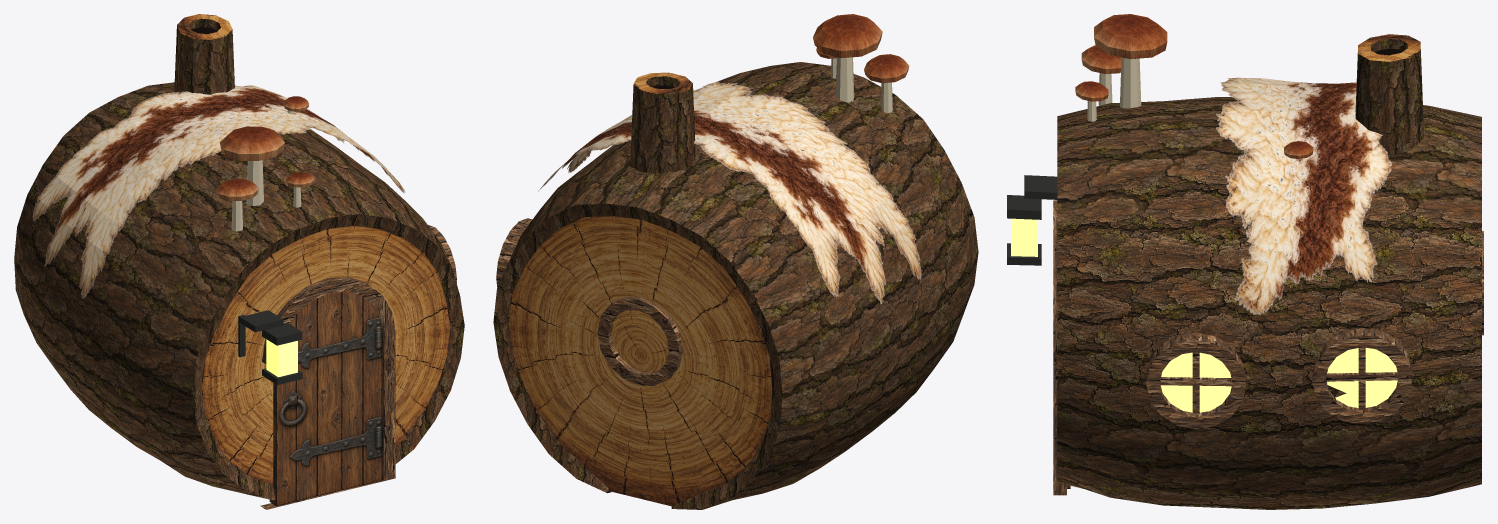
File: house-forest-01.glb
3 renders of one model, left to right at view 1: azimuth 30°, elevation 25°; view 2: azimuth 150°, elevation 25°; view 3: azimuth 270°, elevation 25°, orthographic. The views are drawn at different scales.
Parts seen in each view (by area): view 1: log, end_f, hide, door, rim_f, door_frame, chimney, mush0_cap, lantern_glass, lantern_cage, lantern_bracket, chimney_top (+2 smaller); view 2: log, end_b, hide, rim_b, chimney, win_back_frame, mush0_cap, mush1_cap, mush0_stem, win_frame_1, chimney_top; view 3: log, hide, chimney, win_frame_1, win_frame_0, mush0_cap, win_0, win_1, door_frame, lantern_cage, win_cross_1, win_cross_0 (+6 smaller).
Boxes of the visible parts, x1,y1,x2,y2 form: log: (14, 82, 450, 499); end_f: (202, 225, 450, 484); hide: (32, 85, 405, 298); door: (269, 291, 382, 506); rim_f: (192, 214, 464, 499); door_frame: (260, 276, 395, 509); chimney: (174, 18, 234, 108); mush0_cap: (219, 126, 284, 160); lantern_glass: (266, 339, 297, 377); lantern_cage: (262, 322, 302, 384); lantern_bracket: (238, 310, 283, 357); chimney_top: (177, 14, 232, 39); log: (500, 62, 978, 508); end_b: (509, 216, 772, 506); hide: (538, 81, 921, 303); rim_b: (493, 203, 782, 509); chimney: (630, 76, 695, 173); win_back_frame: (597, 296, 682, 385); mush0_cap: (813, 14, 882, 57); mush1_cap: (864, 54, 909, 83); mush0_stem: (835, 57, 854, 102); win_frame_1: (496, 218, 532, 287); chimney_top: (633, 72, 692, 94); log: (1057, 97, 1481, 509); hide: (1216, 77, 1391, 314); chimney: (1355, 39, 1423, 154); win_frame_1: (1312, 328, 1412, 424); win_frame_0: (1146, 332, 1246, 429); mush0_cap: (1094, 14, 1167, 59); win_0: (1161, 352, 1231, 412); win_1: (1327, 348, 1397, 407); door_frame: (1053, 200, 1066, 495); lantern_cage: (1007, 195, 1041, 265); win_cross_1: (1326, 347, 1398, 410); win_cross_0: (1160, 352, 1232, 415).
Size of the model in its own units: 2.37 by 2.41 by 2.47.
10 materials, 6 textured.
